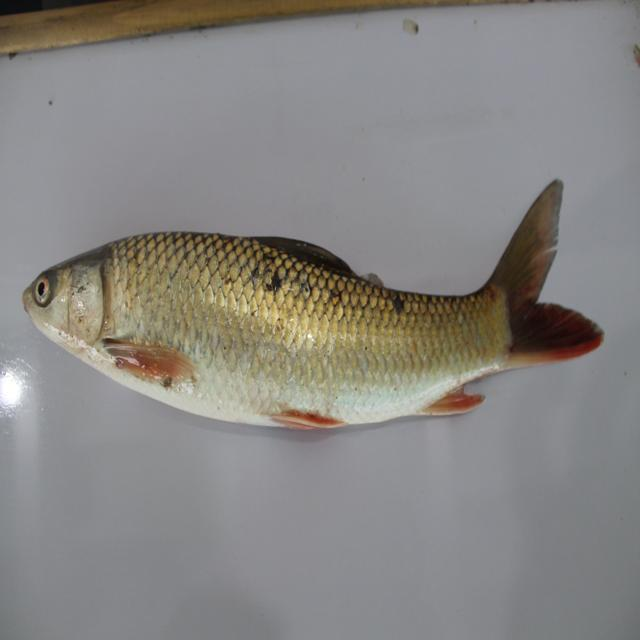Mori: (23, 200, 602, 446)
